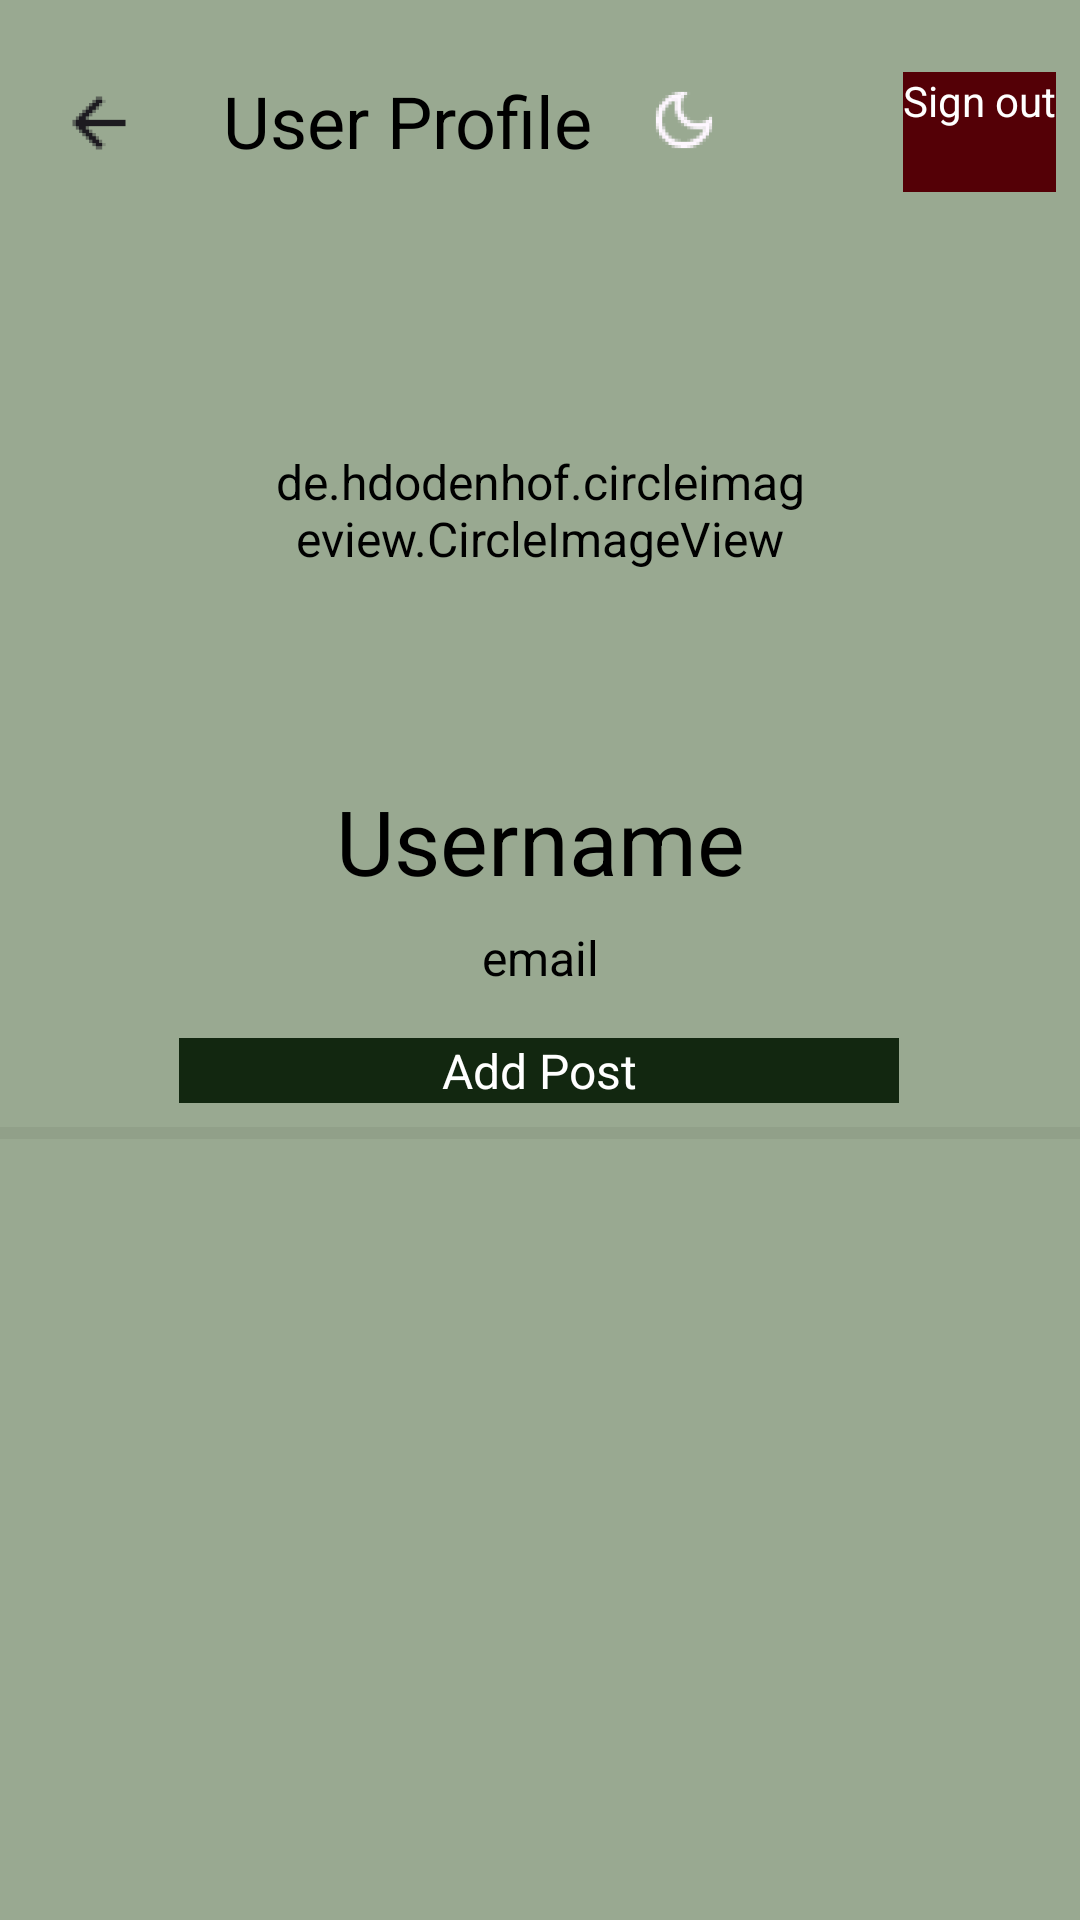

Where icons sit on this 1080 x 1920 app screen, as (x1,y1,x2,y2):
arrow back: (72,96,126,150)
